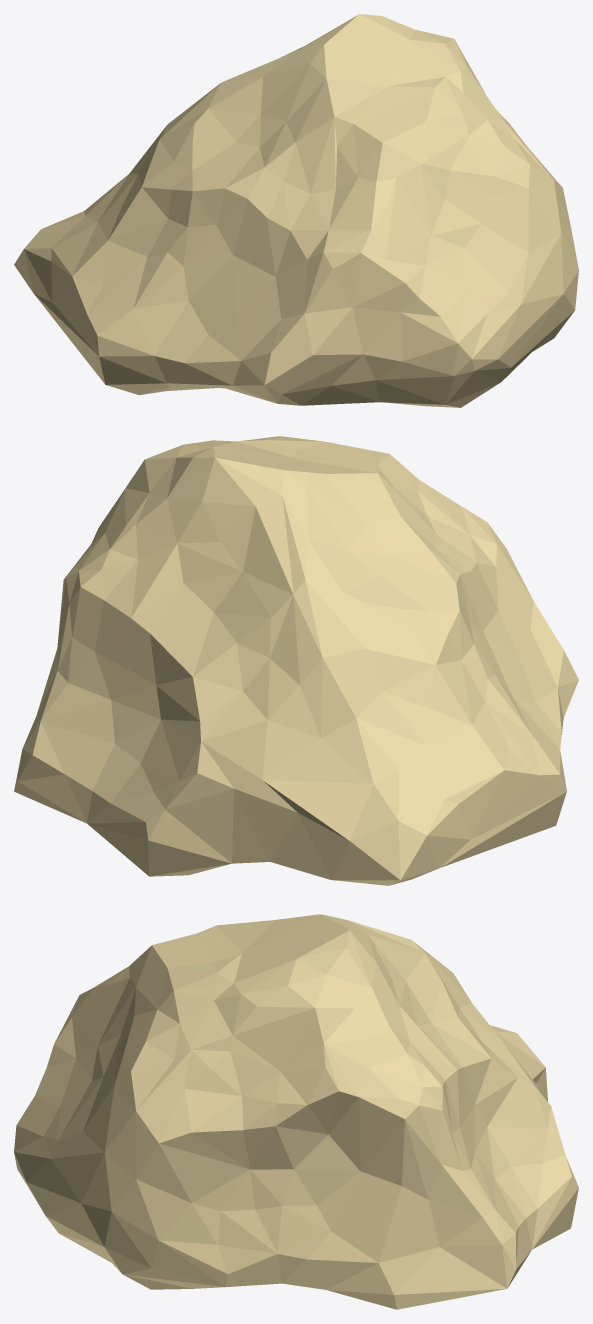
File: Asteroid (19).fbx
3 renders of one model, top to bottom at view 1: azimuth 30°, elevation 25°; view 2: azimuth 150°, elevation 25°; view 3: azimuth 270°, elevation 25°, orthographic. The views are drawn at different scales.
Visible parts, largest first — view 1: Asteroid159; view 2: Asteroid159; view 3: Asteroid159.
Boxes of the visible parts, box(x1,y1,x2,y2) form: Asteroid159: box(14, 14, 578, 407); Asteroid159: box(14, 436, 578, 885); Asteroid159: box(14, 914, 578, 1309).
Bounding box in the file's own units: 202 × 140 × 215.
